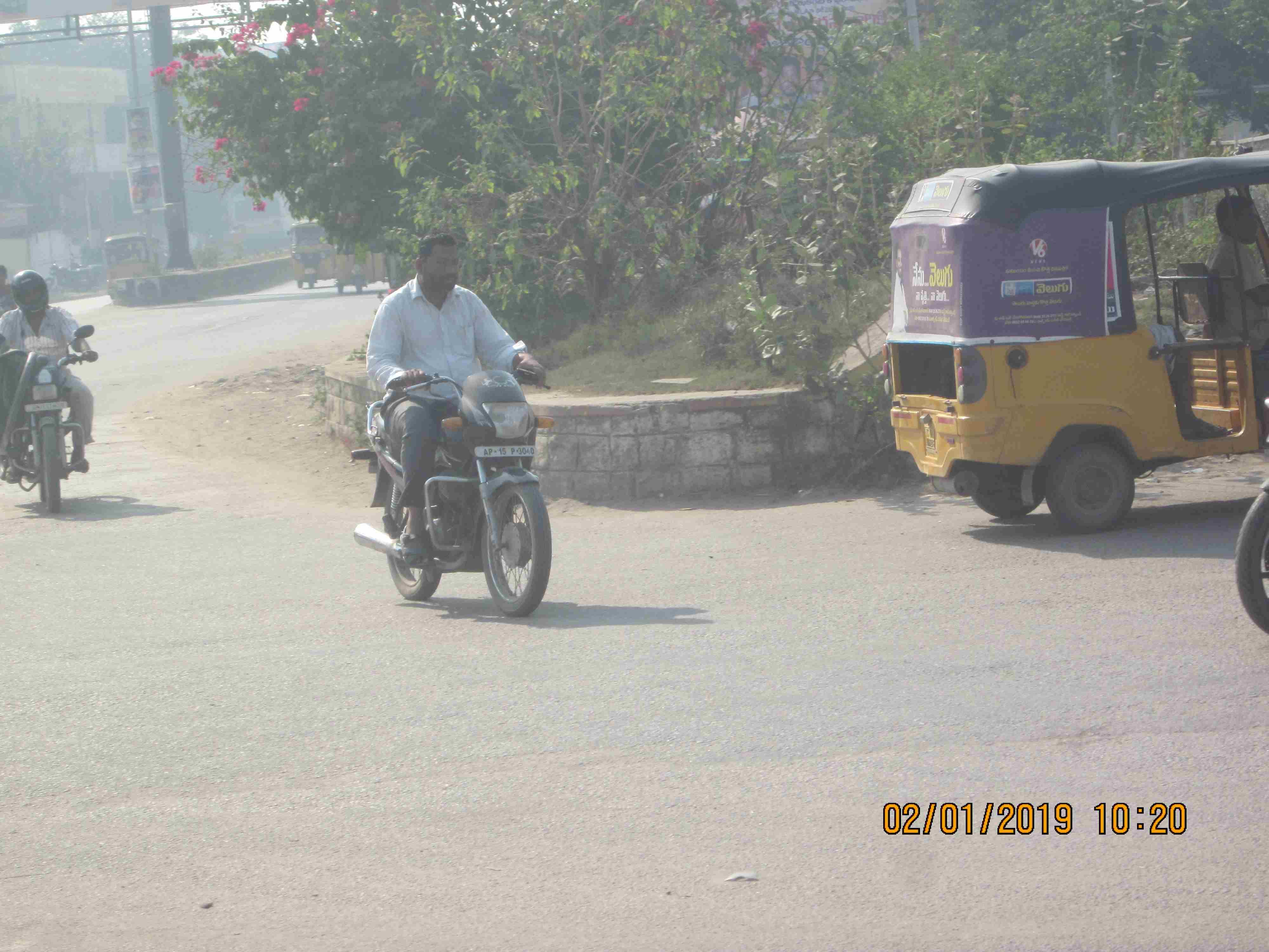plate: (473, 435, 552, 467), (16, 395, 79, 415)
